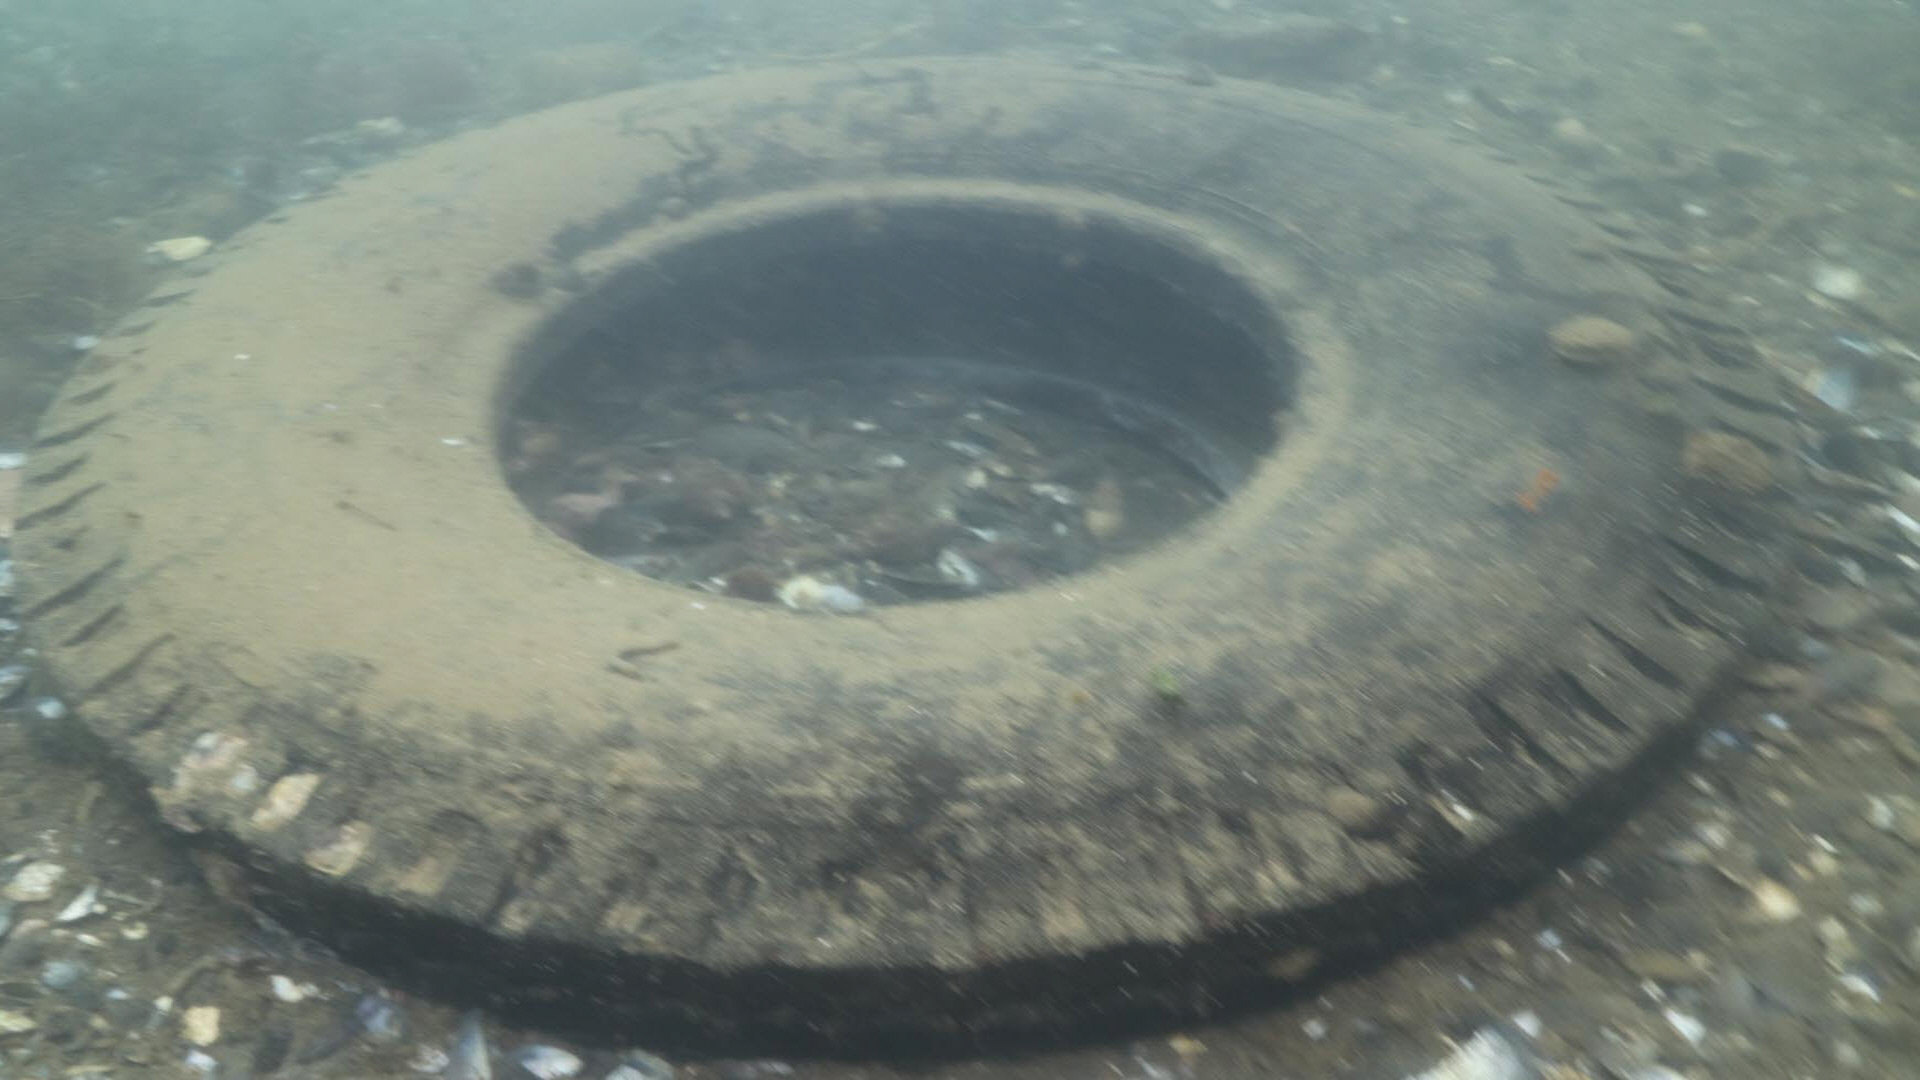tire: (11, 54, 1807, 1062)
